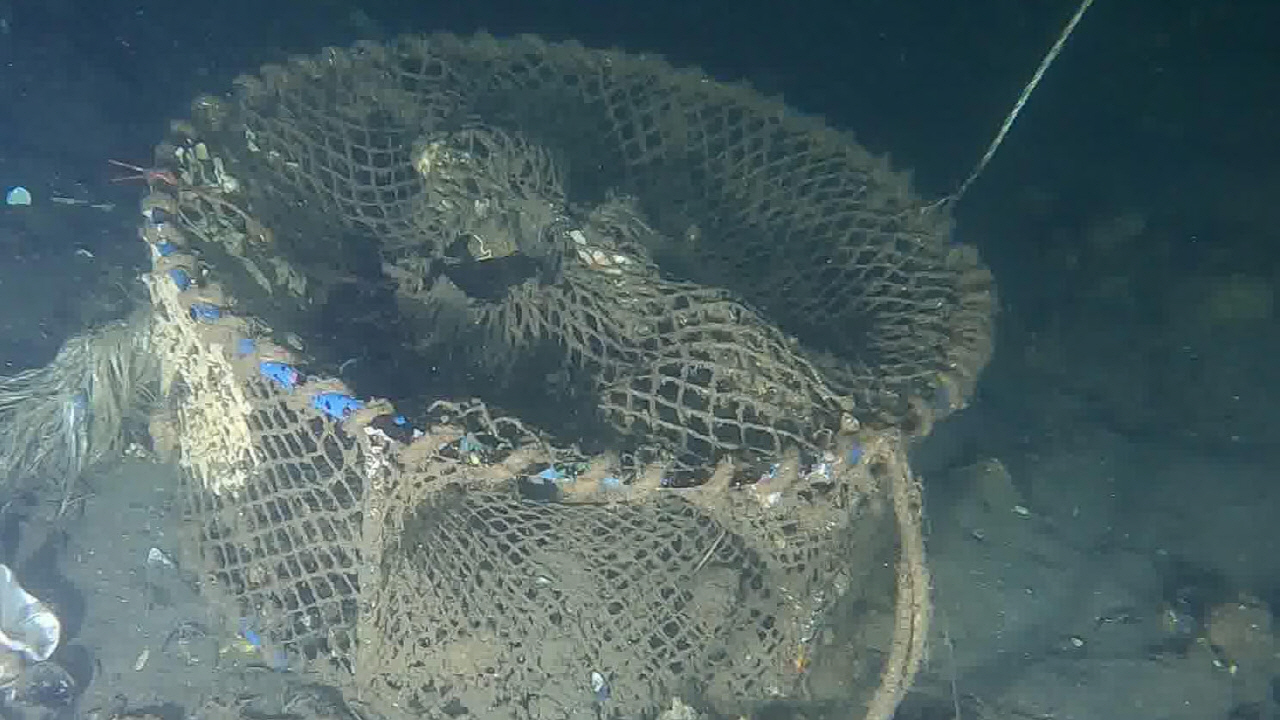bundle of ropes: (864, 451, 932, 720)
circular fish trap: (139, 28, 997, 720)
